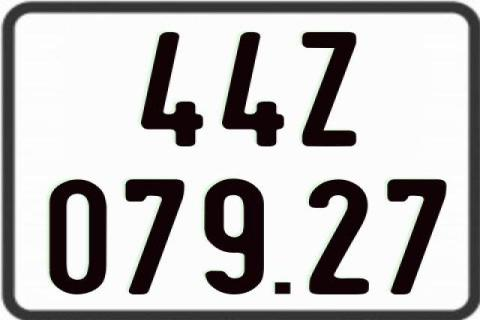0: (140, 31, 204, 149), (221, 32, 285, 150), (48, 178, 112, 294), (309, 179, 371, 295), (124, 178, 183, 298), (201, 178, 261, 296), (386, 178, 445, 296)
Z: (299, 32, 358, 149)
